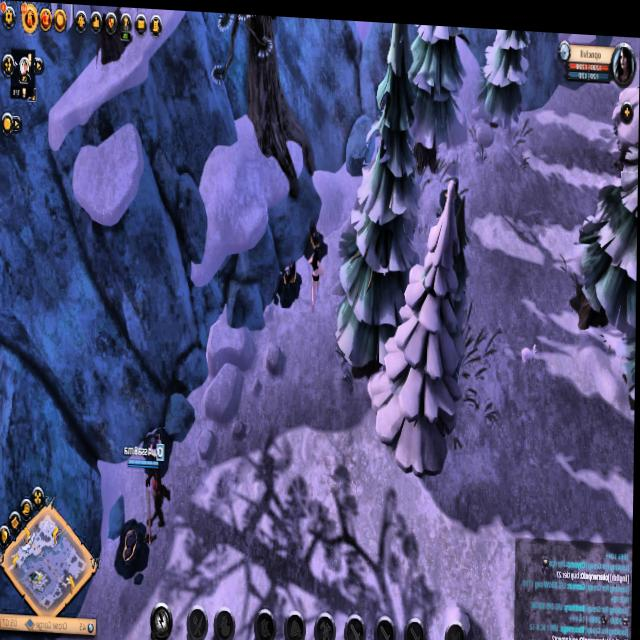copper_ore: (273, 259, 305, 301)
